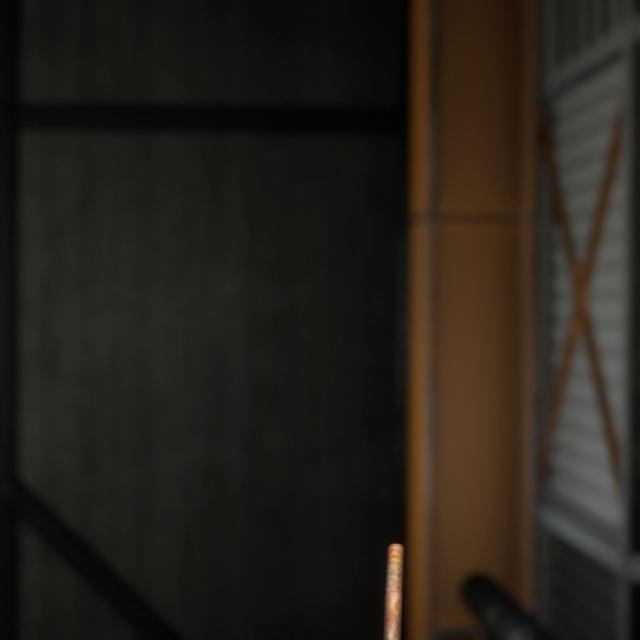bolt: (377, 517, 408, 640)
